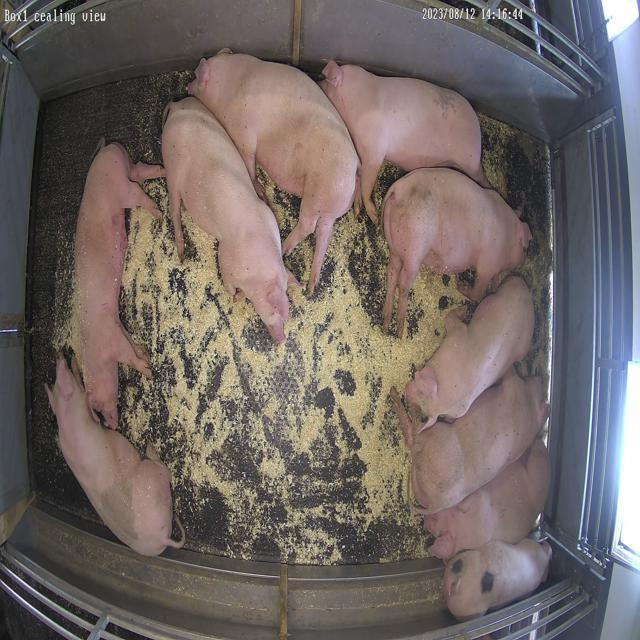Dirt: (482, 114, 554, 344)
Pig: (188, 49, 359, 292), (162, 97, 291, 342), (47, 358, 184, 556), (321, 60, 488, 222), (74, 143, 164, 430), (384, 169, 533, 336), (398, 371, 549, 514), (406, 276, 536, 430), (425, 439, 551, 562), (445, 539, 553, 620)
